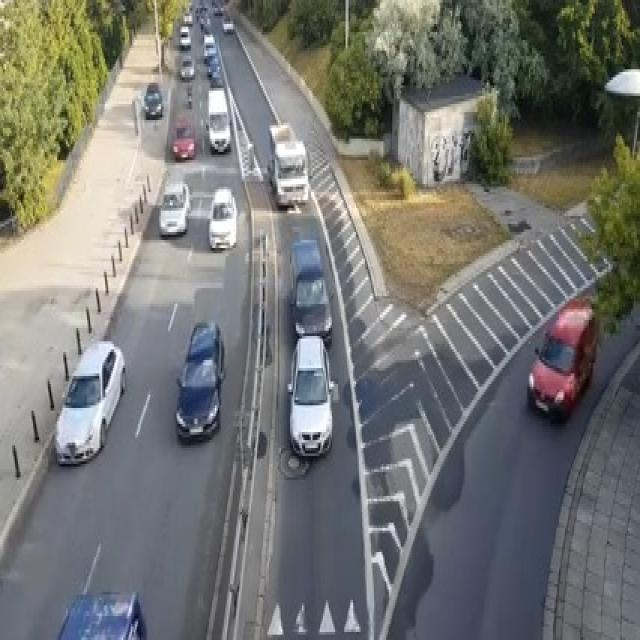car: (54, 339, 125, 464), (526, 296, 596, 419), (174, 320, 224, 443), (287, 333, 333, 456), (288, 237, 332, 344), (54, 590, 146, 638), (208, 187, 238, 248), (204, 85, 230, 152), (158, 182, 189, 238), (172, 117, 196, 160), (143, 83, 162, 117), (203, 32, 216, 61), (179, 56, 194, 80), (207, 54, 221, 78), (179, 24, 191, 48), (221, 13, 233, 32), (200, 13, 210, 30), (210, 72, 222, 85), (182, 11, 192, 24), (214, 3, 222, 16)
truck: (266, 120, 309, 208)
